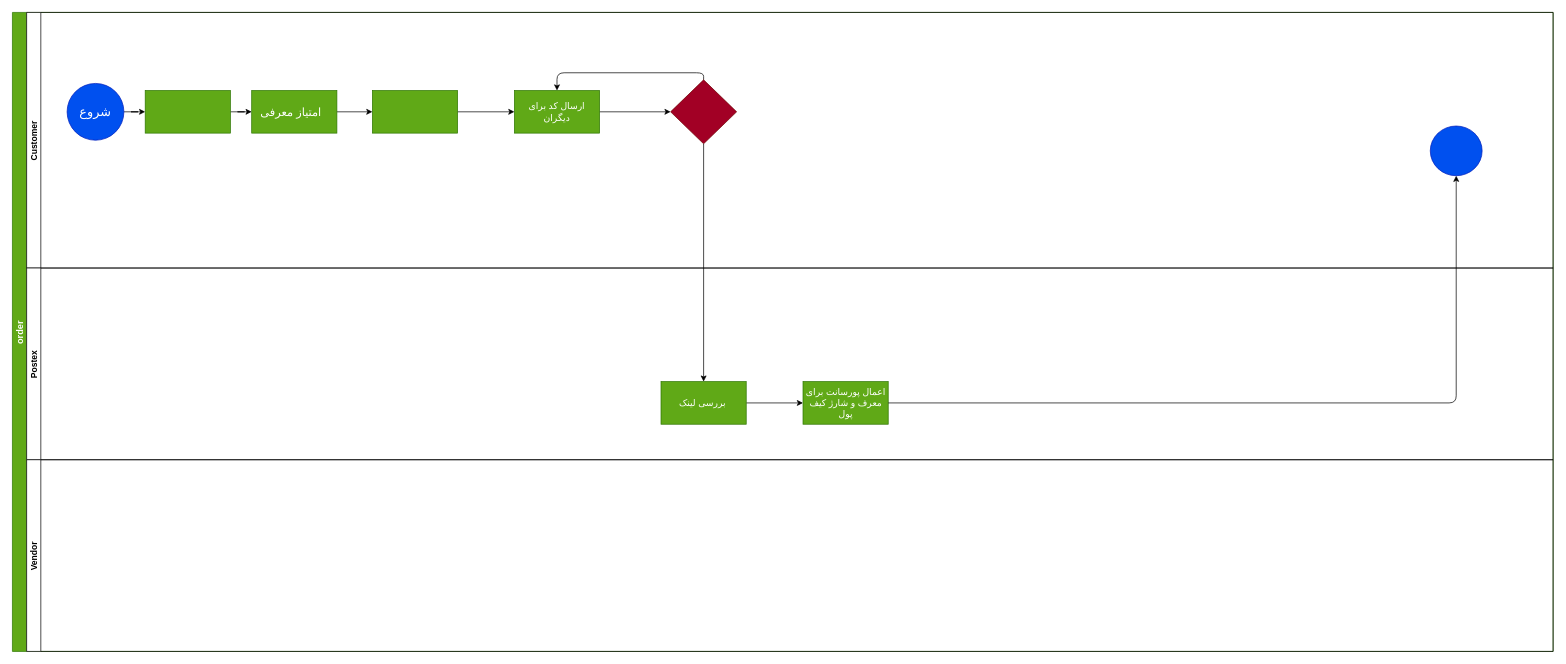
Some shapes in this 1566 by 664 pixel diagram are drawn without their labels. The centre of each missing label's shape, as x and y in pixels:
"ایجاد لینک معرف" goes at [415,111].
"ثبت سفارش با لینک" goes at [703,111].
"حساب من" goes at [187,111].
"پایان" goes at [1456,150].
